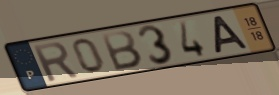0: (71, 36, 109, 75)
3: (137, 23, 176, 66)
4: (179, 18, 209, 59)
A: (212, 14, 252, 55)
B: (99, 29, 145, 72)
R: (29, 40, 82, 84)
